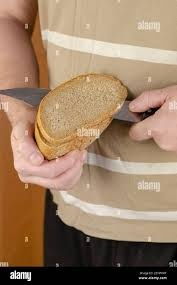knife: (1, 85, 164, 122)
